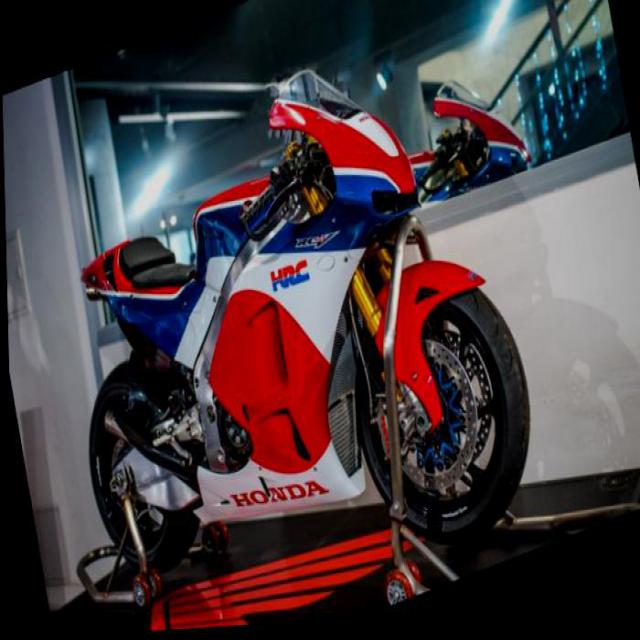HRC RCV 213: (35, 6, 552, 637)
